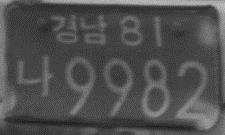1: (150, 14, 166, 49)
2: (174, 59, 210, 121)
8: (138, 58, 171, 118), (119, 13, 144, 49)
9: (62, 55, 98, 117), (102, 56, 134, 120)
경남_O: (49, 12, 108, 47)
나: (13, 52, 55, 99)
